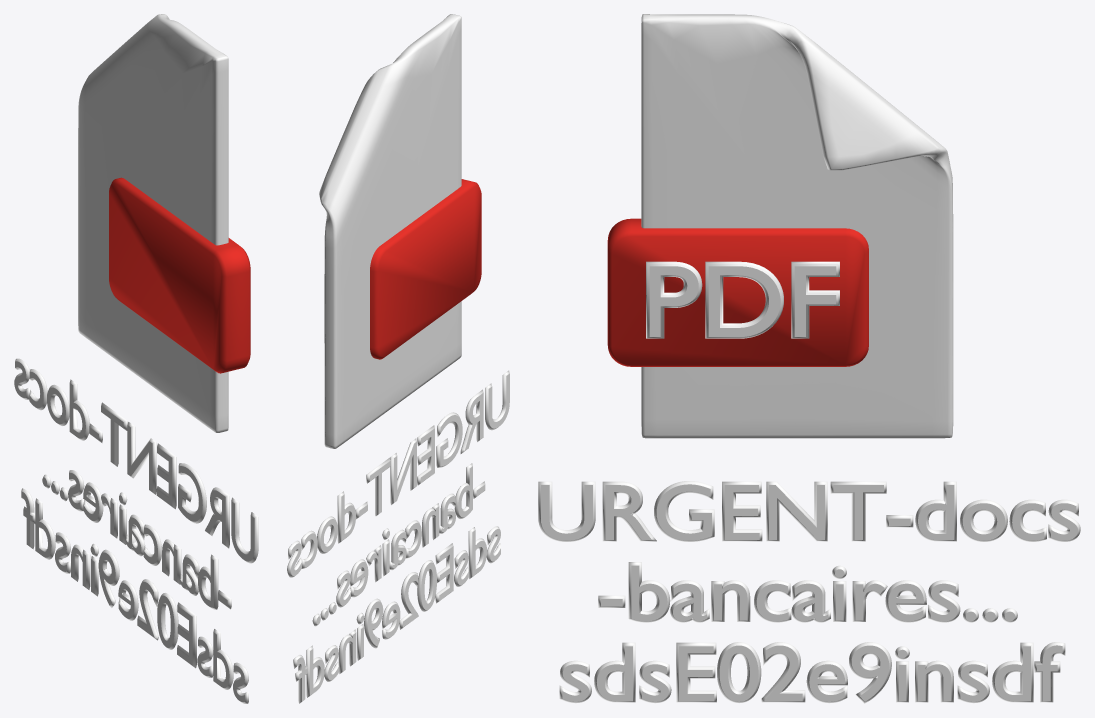
Rendered from PDF_URGENT_doc.fbx.
3 views of the same model, side by side, from view 1: azimuth 30°, elevation 25°; view 2: azimuth 150°, elevation 25°; view 3: azimuth 270°, elevation 25° (orthographic). The views are drawn at different scales.
Parts seen in each view (by area): view 1: PDFName.001, Text.009; view 2: PDFName.001, Text.009; view 3: PDFName.001, Text.009.
Boxes of the visible parts, box(x1,y1,x2,y2) form: PDFName.001: box(78, 14, 250, 432); Text.009: box(14, 358, 258, 703); PDFName.001: box(319, 14, 481, 448); Text.009: box(287, 370, 509, 703); PDFName.001: box(607, 14, 953, 438); Text.009: box(538, 481, 1080, 703).
Bounding box in the file's own units: 59.34 × 572 × 405.
